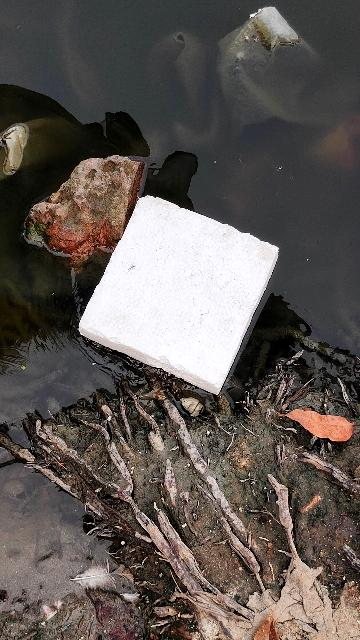cocksheet: (67, 192, 286, 410)
